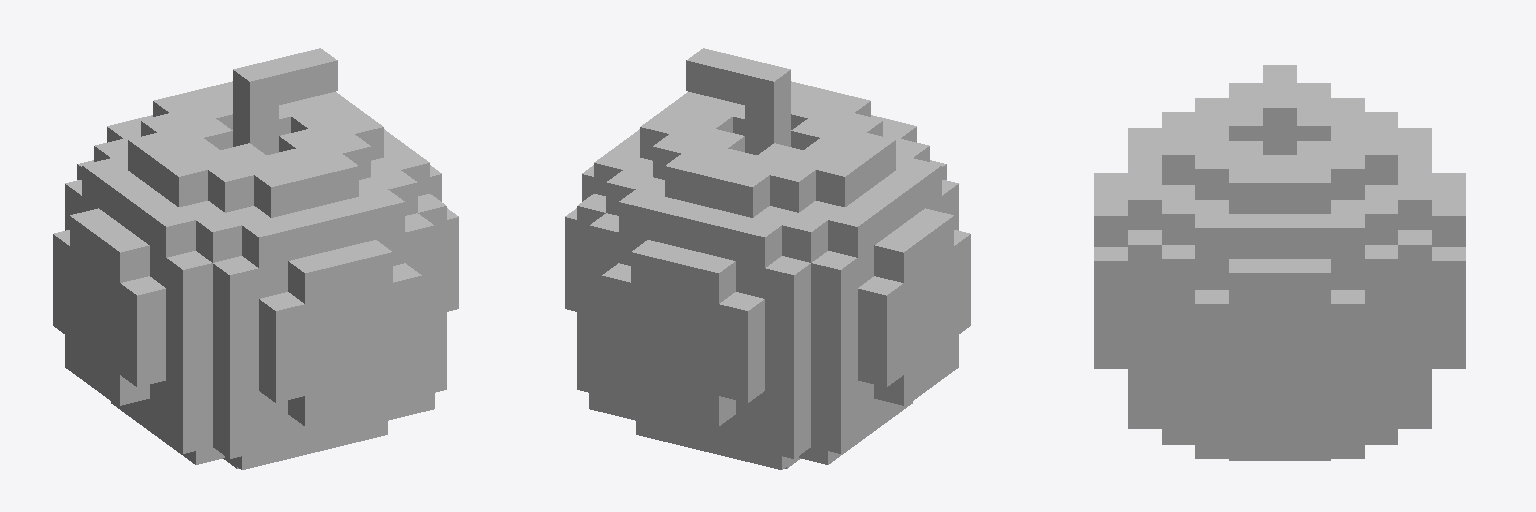
Rendered from apple.obj.
The picture shows the model from 3 angles: view 1: azimuth 30°, elevation 25°; view 2: azimuth 150°, elevation 25°; view 3: azimuth 270°, elevation 25°; orthographic projection.
Parts seen in each view (by area): view 1: object 1; view 2: object 1; view 3: object 1.
Boxes of the visible parts, x1,y1,x2,y2 form: object 1: [53, 48, 458, 469]; object 1: [565, 48, 970, 469]; object 1: [1094, 65, 1465, 460].
Size of the model in its own units: 1.1 by 1.2 by 1.1.